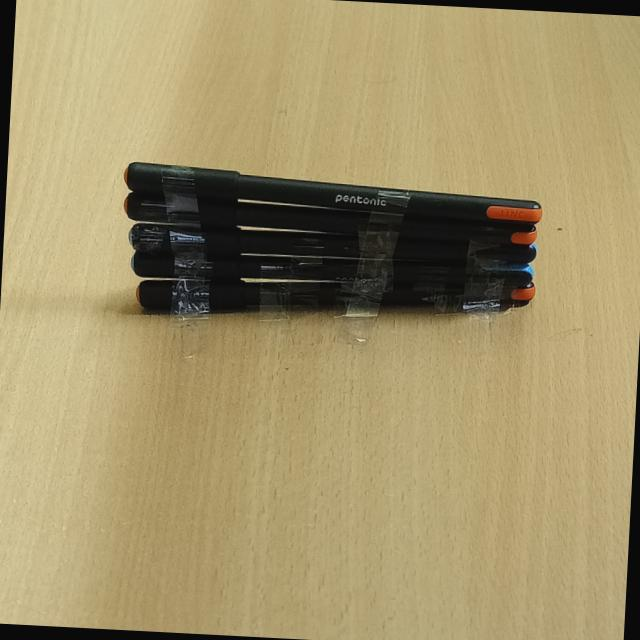pen: (64, 105, 578, 248)
